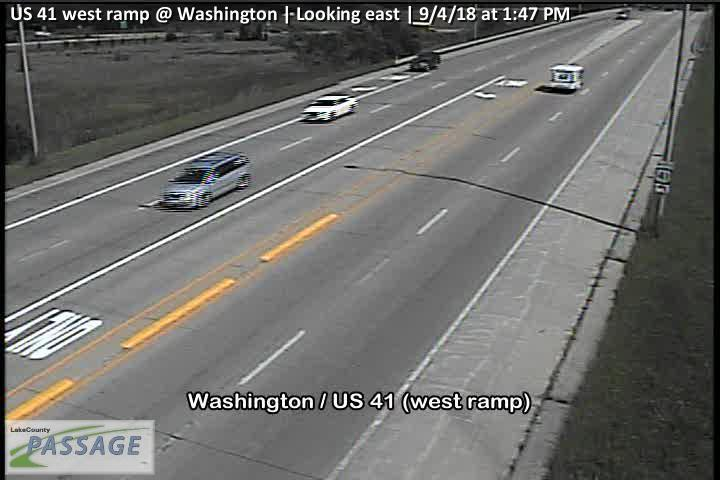SUV: (162, 149, 252, 210)
Sedan: (302, 93, 358, 122), (409, 49, 441, 72)
